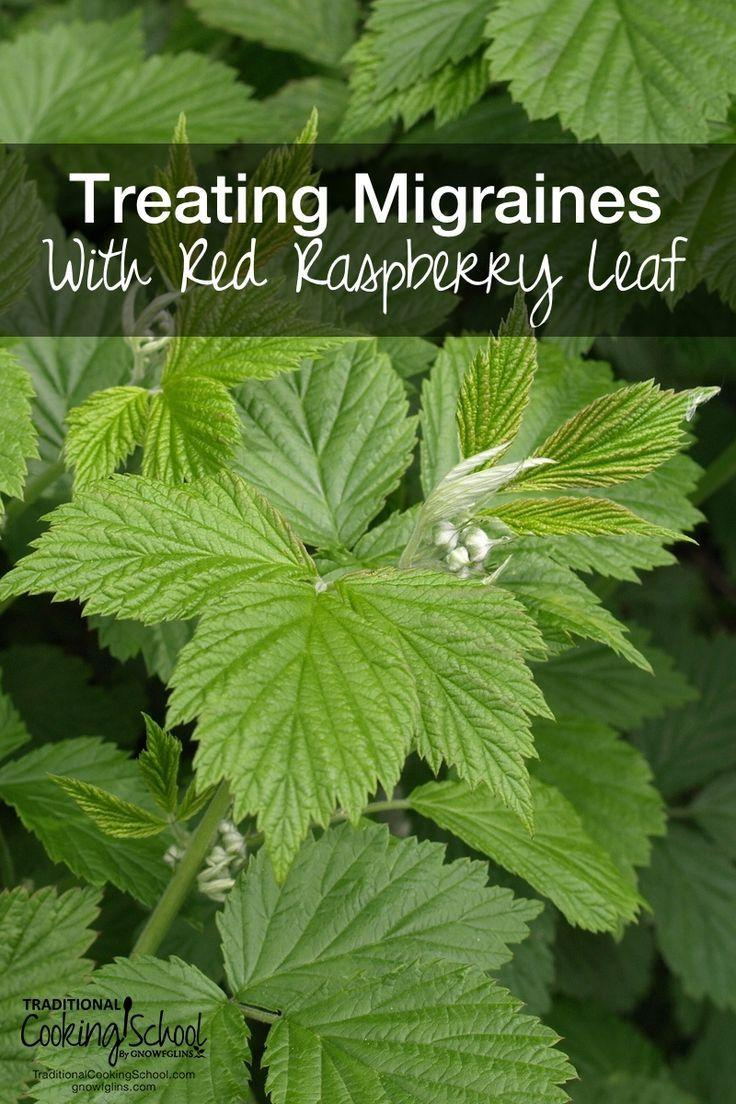Raspberry leaf: (163, 559, 557, 899), (1, 460, 315, 631), (499, 371, 729, 496), (480, 484, 691, 566), (454, 276, 545, 462)
